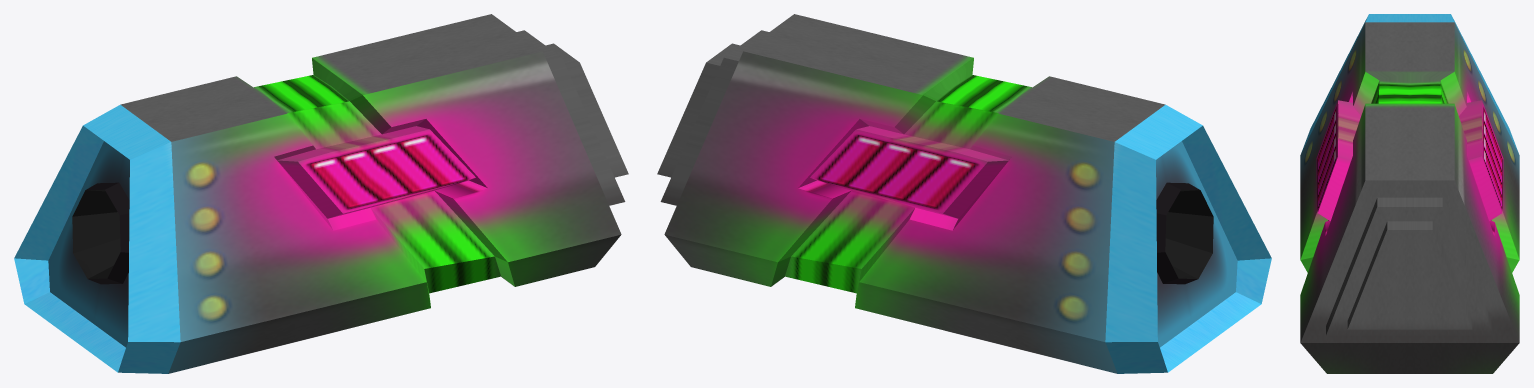
The model's file is WeaponLaserBeam.FBX.
The picture shows the model from 3 angles, left to right: view 1: azimuth 30°, elevation 25°; view 2: azimuth 150°, elevation 25°; view 3: azimuth 270°, elevation 25°; orthographic projection. The views are drawn at different scales.
Parts seen in each view (by area): view 1: Cylinder007; view 2: Cylinder007; view 3: Cylinder007.
Boxes of the visible parts, bbox=[...] form: Cylinder007: bbox=[14, 14, 628, 373]; Cylinder007: bbox=[657, 14, 1271, 373]; Cylinder007: bbox=[1300, 14, 1519, 373].
Size of the model in its own units: 59.45 by 22.52 by 24.76.
1 material, 1 textured.
